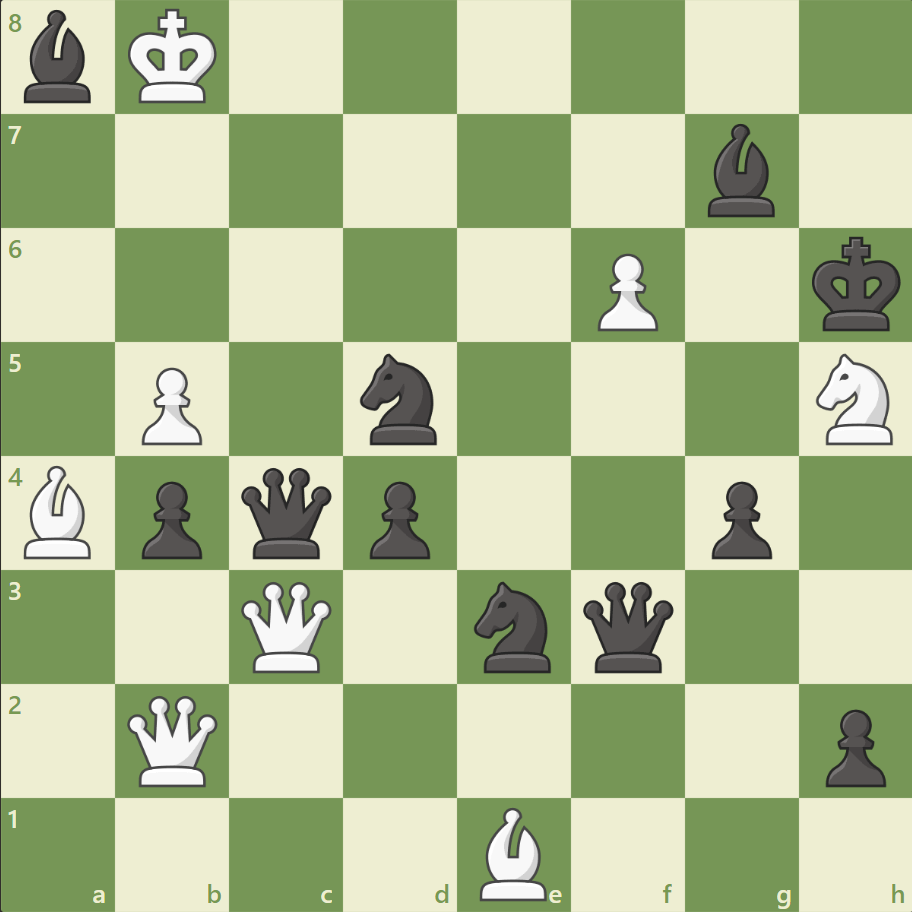B: (17, 460, 101, 563), (471, 801, 555, 904)
K: (124, 4, 224, 112)
N: (806, 348, 903, 450)
P: (133, 359, 208, 450), (588, 246, 662, 337)
Q: (237, 576, 336, 676), (124, 690, 223, 789)
b: (17, 6, 101, 109), (698, 120, 782, 222)
k: (806, 231, 906, 339)
n: (351, 348, 449, 450), (465, 575, 562, 677)
p: (133, 473, 208, 564), (701, 473, 776, 564), (361, 473, 435, 564), (815, 700, 889, 791)
q: (578, 576, 677, 676), (237, 463, 336, 562)
